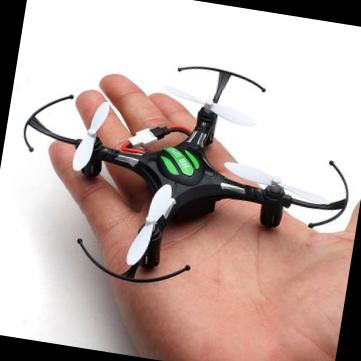drone: (0, 31, 360, 321)
